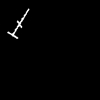double_crochet: (8, 9, 28, 37)
